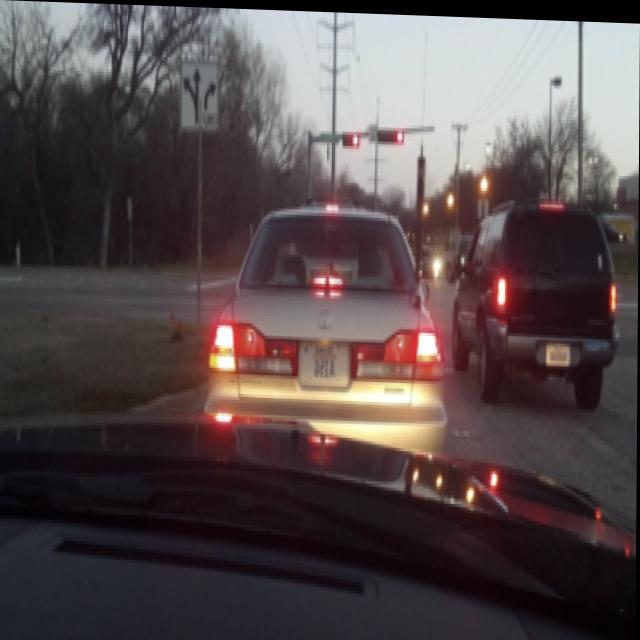licence: (299, 332, 353, 384)
